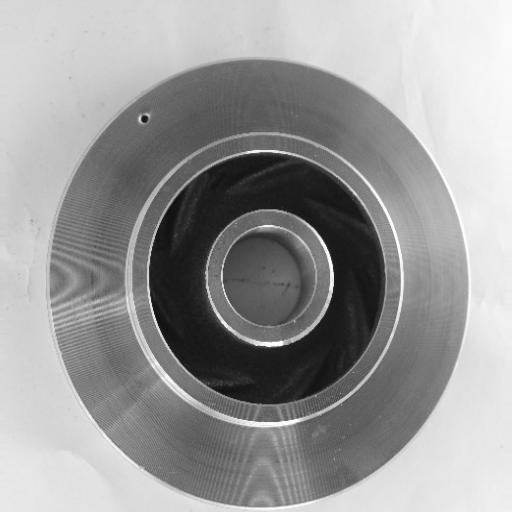pit: (128, 108, 159, 132)
unpolished_casting: (49, 55, 471, 512)
